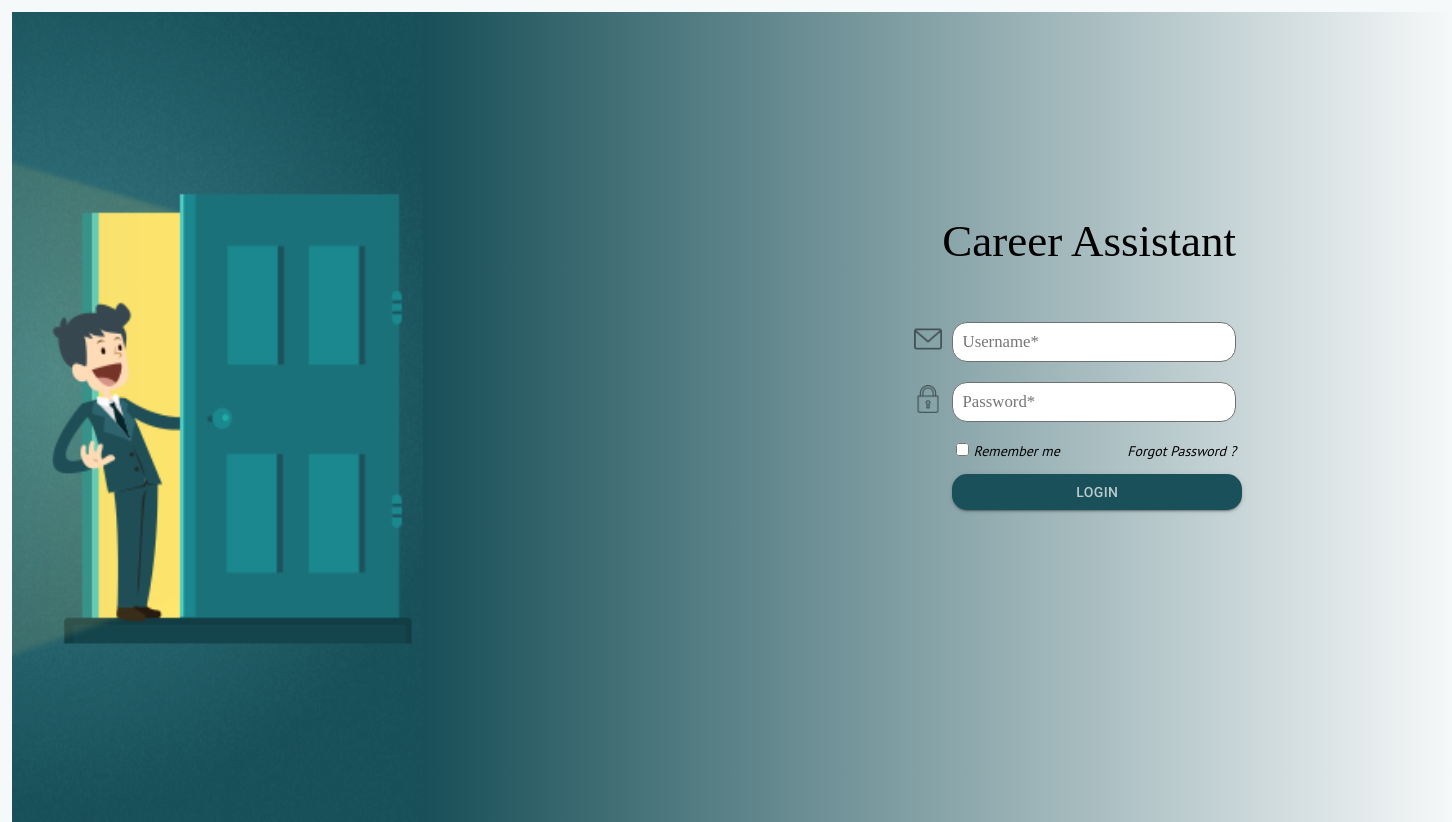
Validation of Login Page › validation of user with invalid username and password
The image size is (1452, 822).
Type "nikhil@email.com" into the field with placeholder "Username*" at (1094, 342), box [952,322,1236,362]
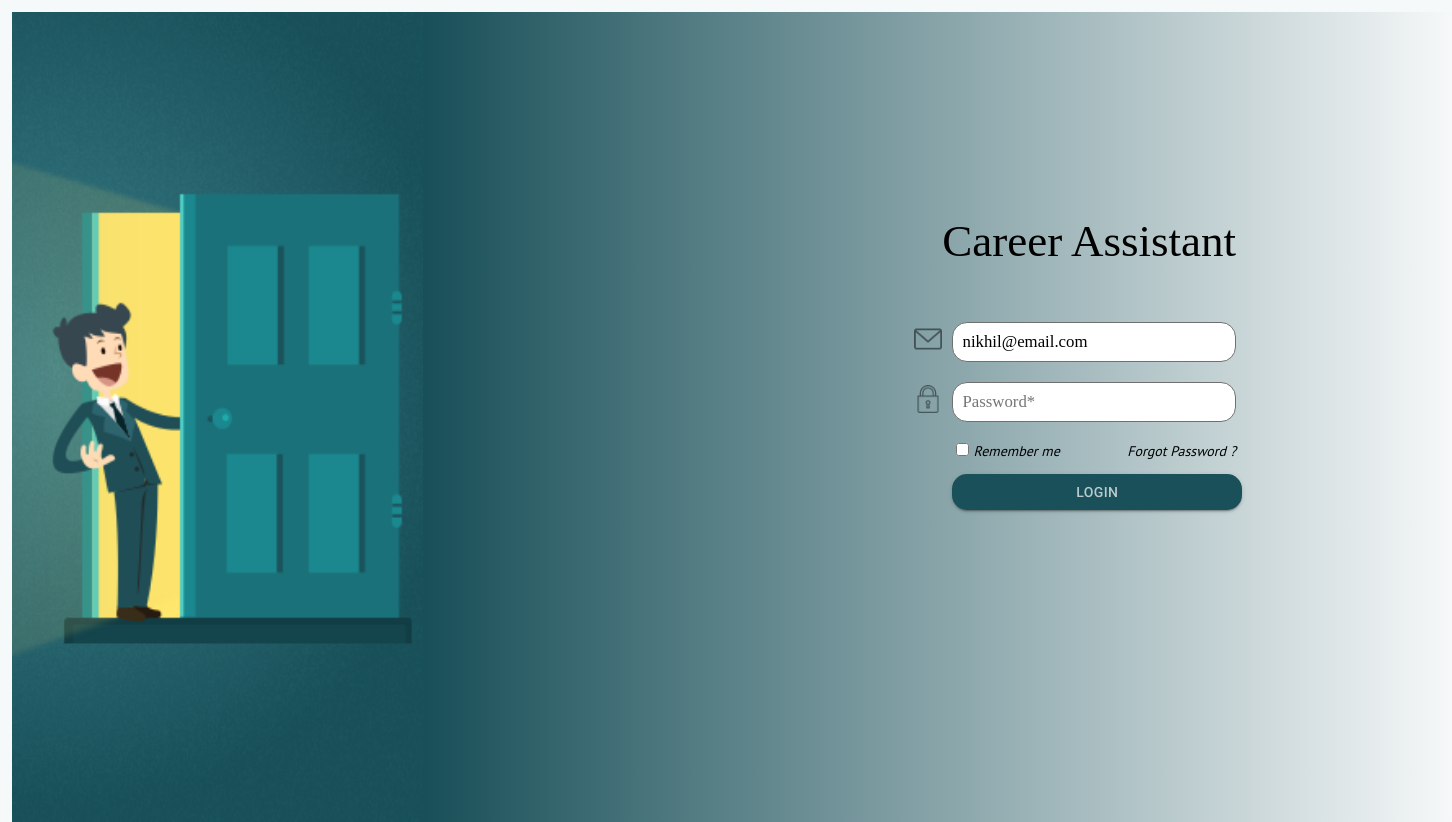
Type "user@123456" into the password field with placeholder "Password*" at (1094, 402), box [952,382,1236,422]
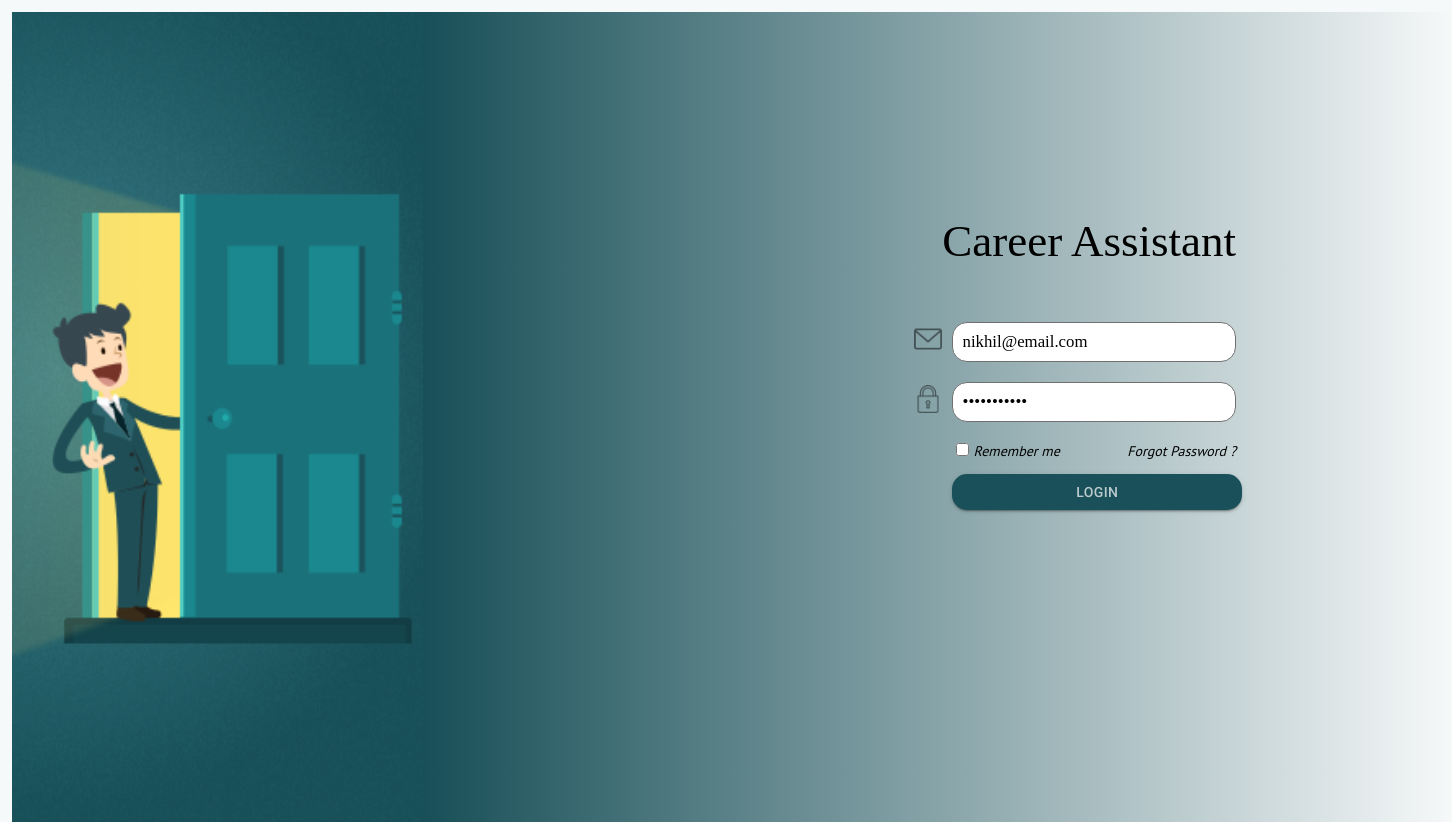
Click the button "Login" at (1097, 492), box [952,474,1242,510]
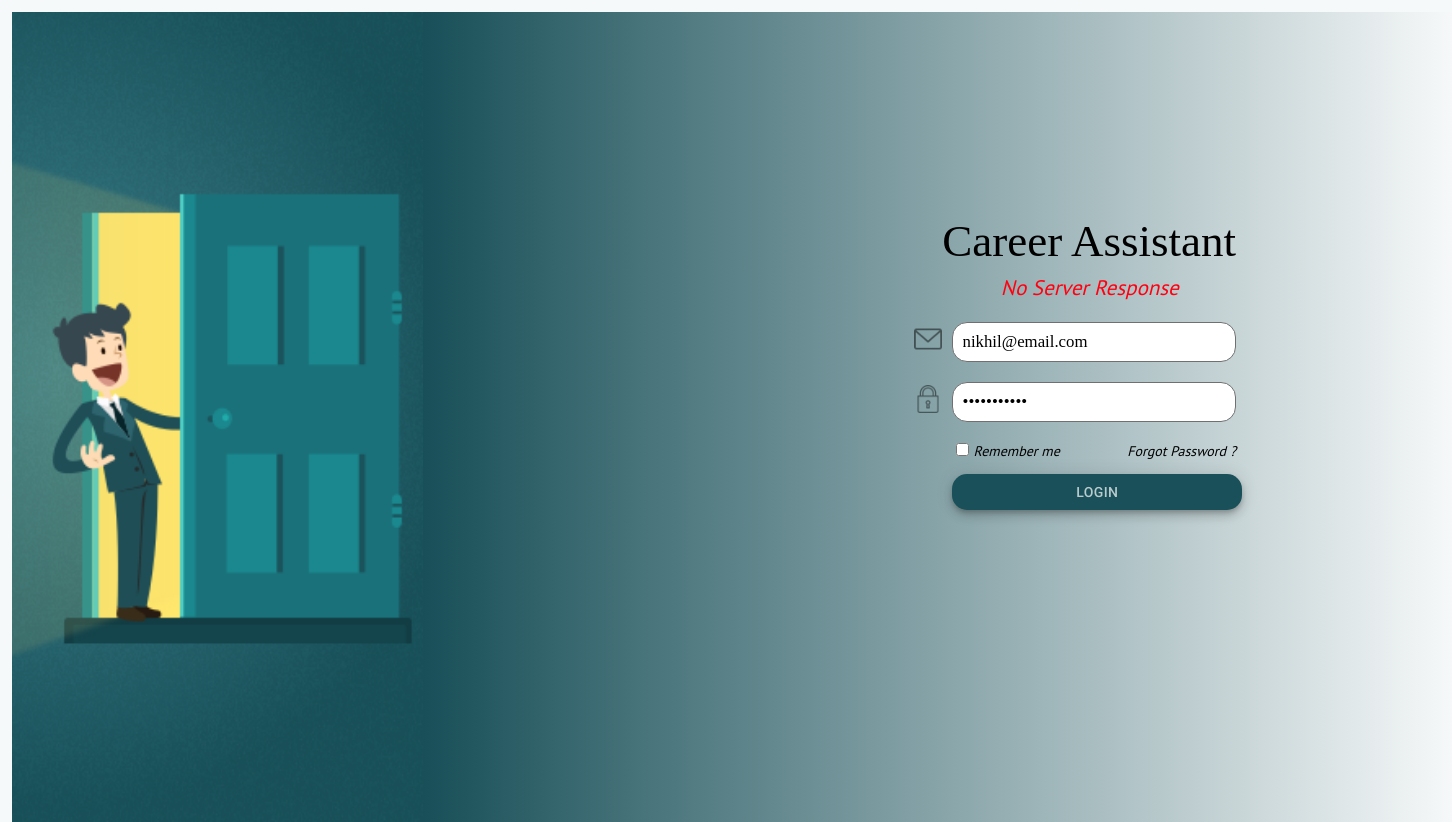
Check: the text "No Server Response" is shown, box [1001,274,1179,300]
